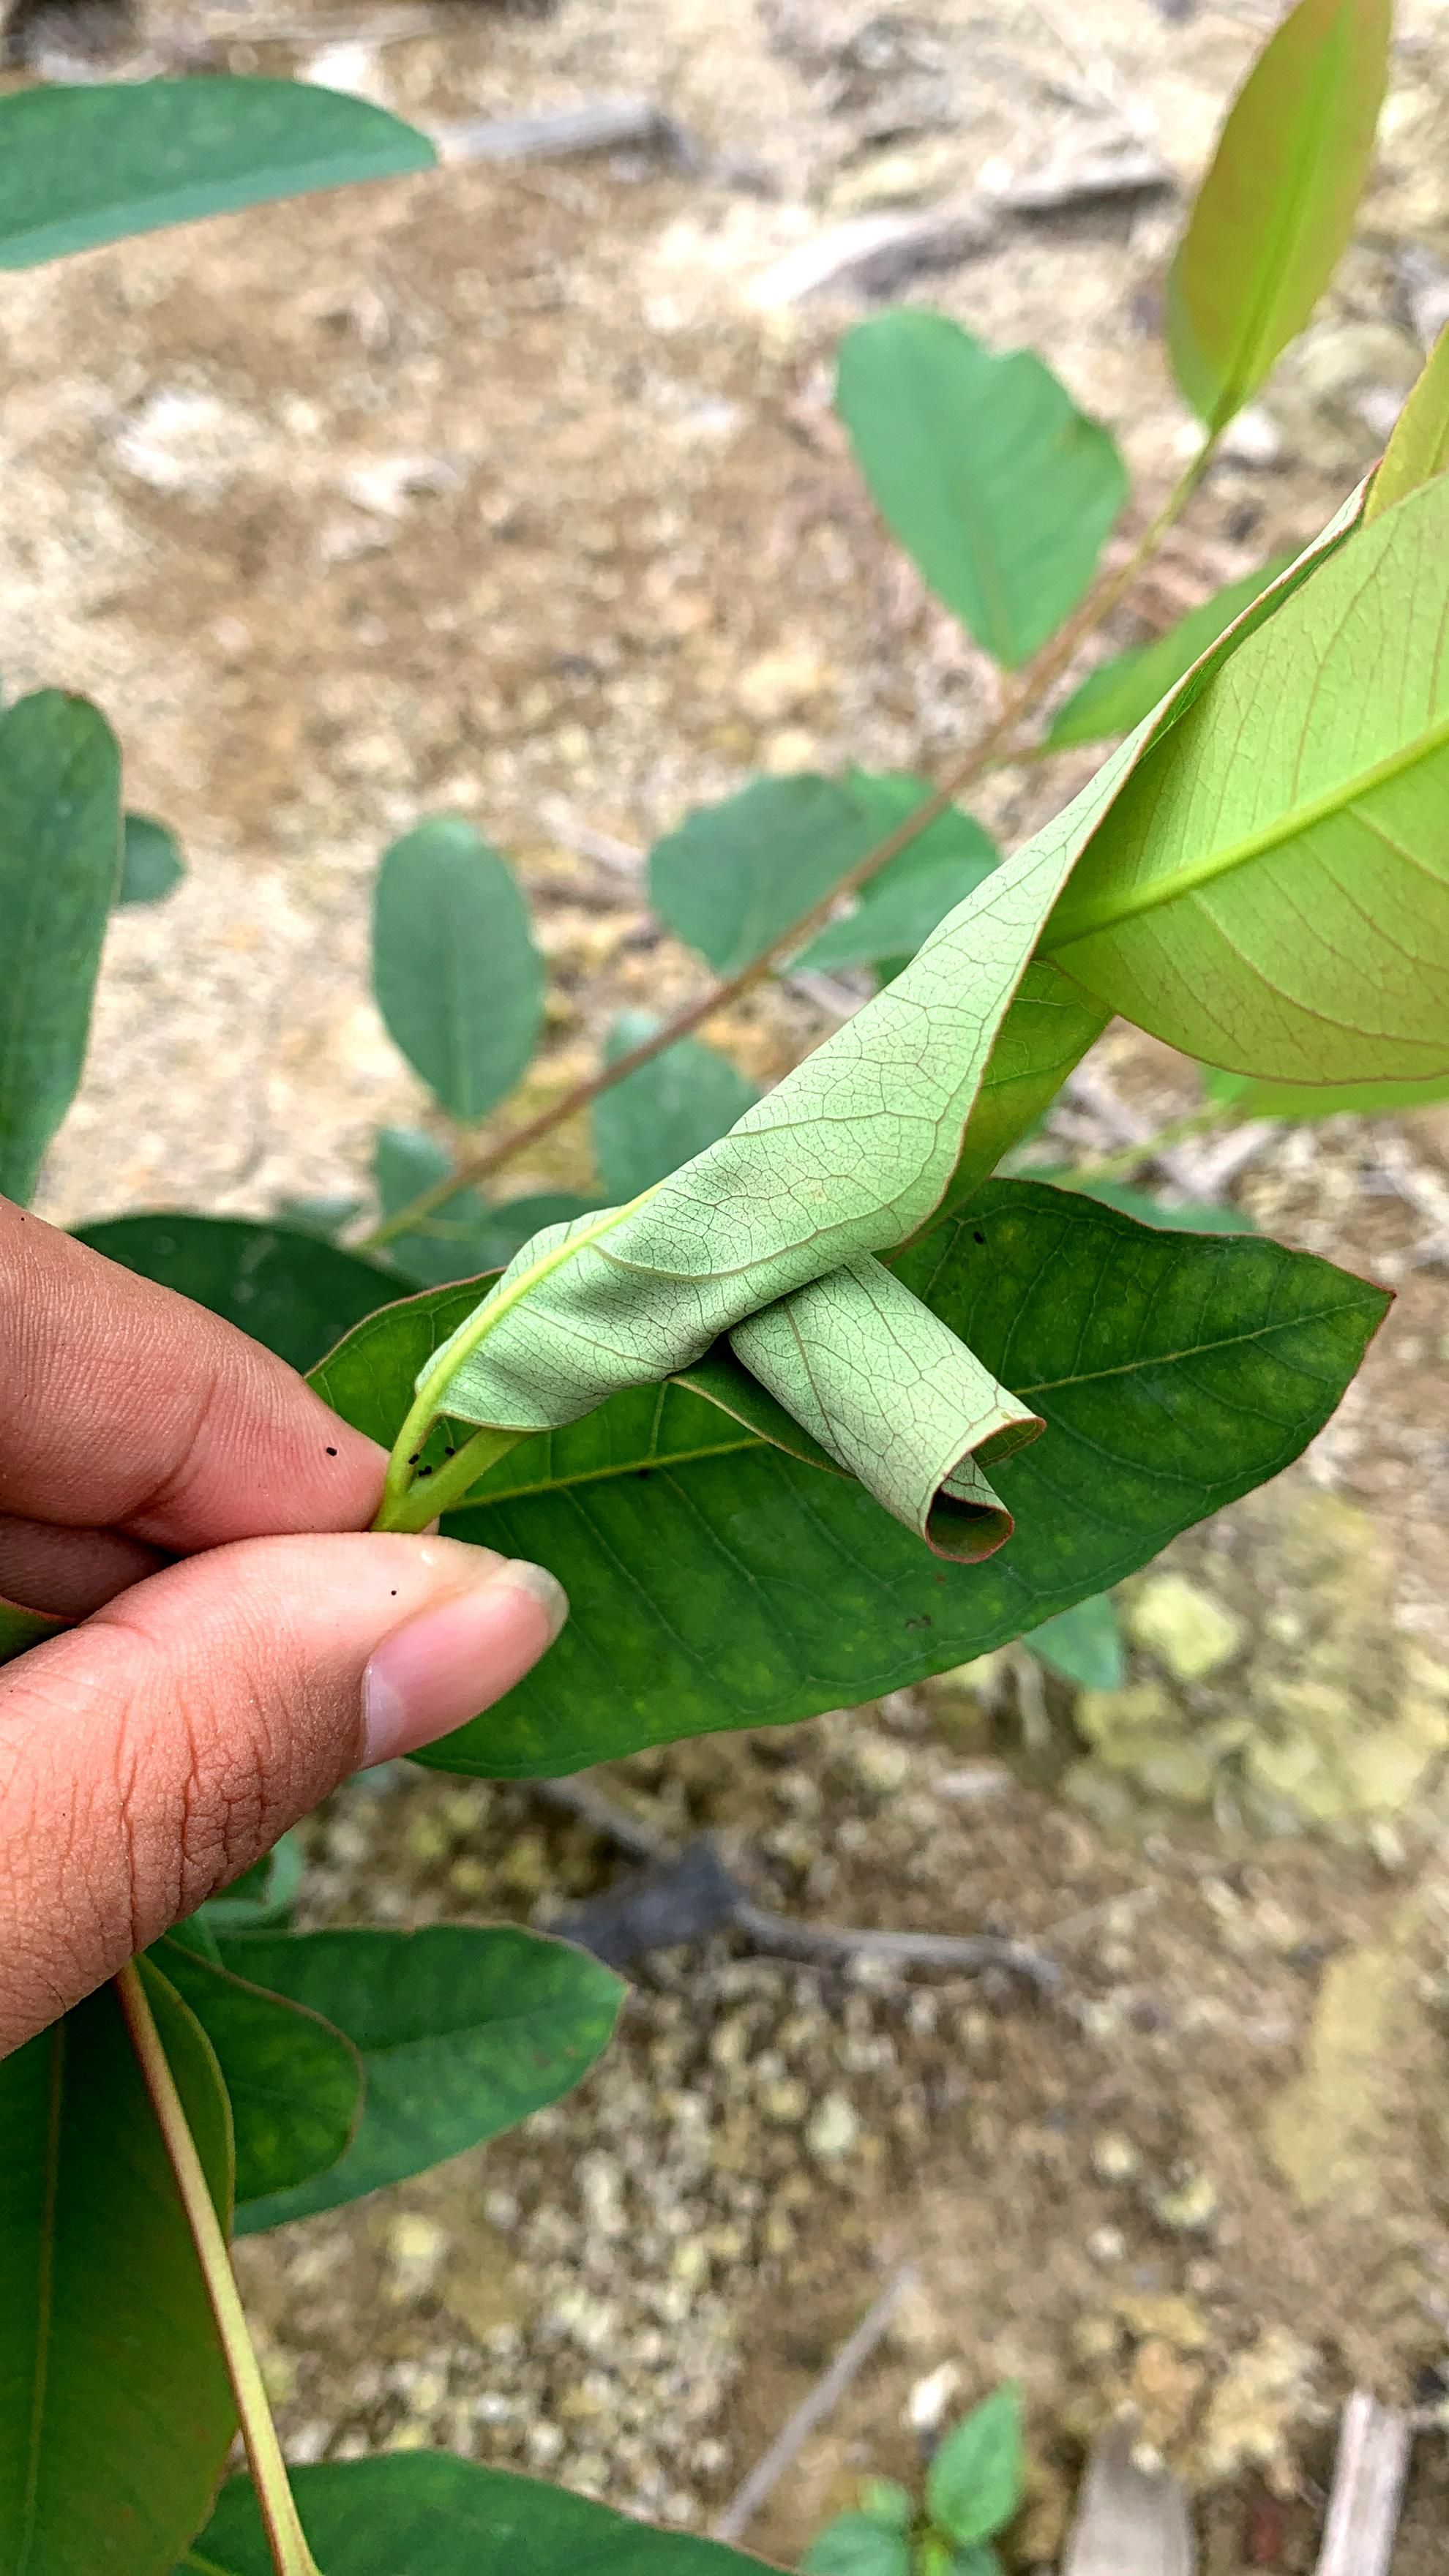Leaf Roller - Leaf: (688, 1249, 1085, 1592)
